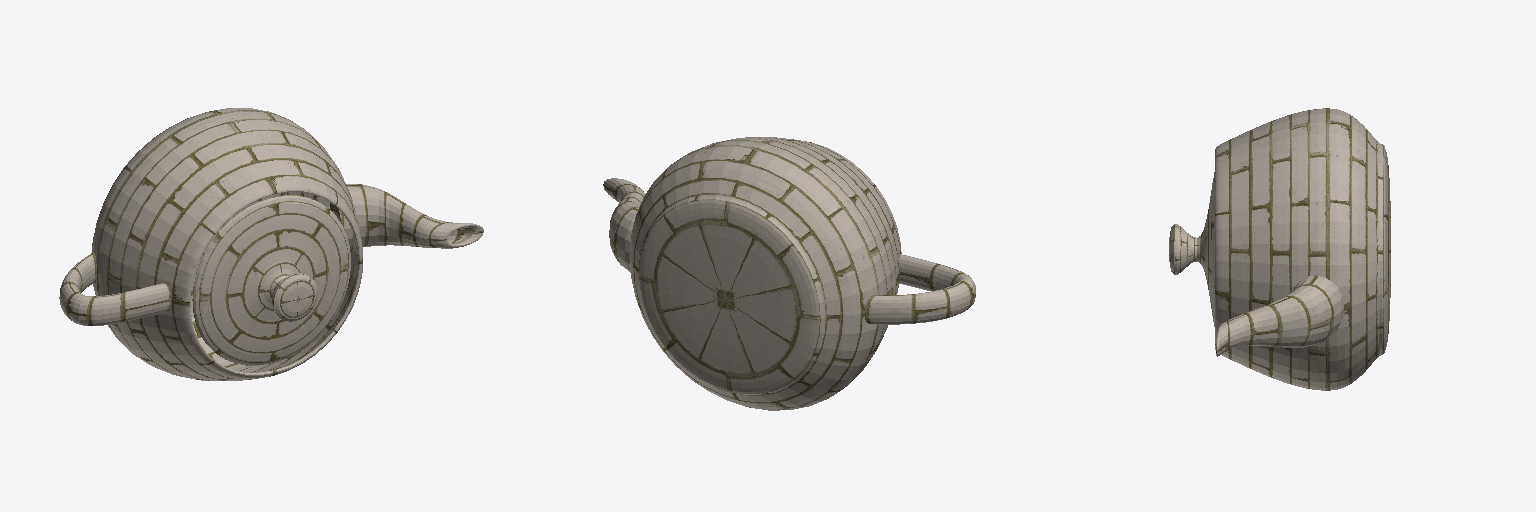
3 views of the same model, side by side, from view 1: azimuth 30°, elevation 25°; view 2: azimuth 150°, elevation 25°; view 3: azimuth 270°, elevation 25° (orthographic).
Parts seen in each view (by area): view 1: Teapot001; view 2: Teapot001; view 3: Teapot001.
Part boxes in pixels (bbox=[...]): Teapot001: bbox=[59, 108, 483, 380]; Teapot001: bbox=[603, 137, 975, 410]; Teapot001: bbox=[1169, 108, 1390, 390].
Size of the model in its own units: 32.17 by 20 by 15.75.
1 materials, 1 textured.